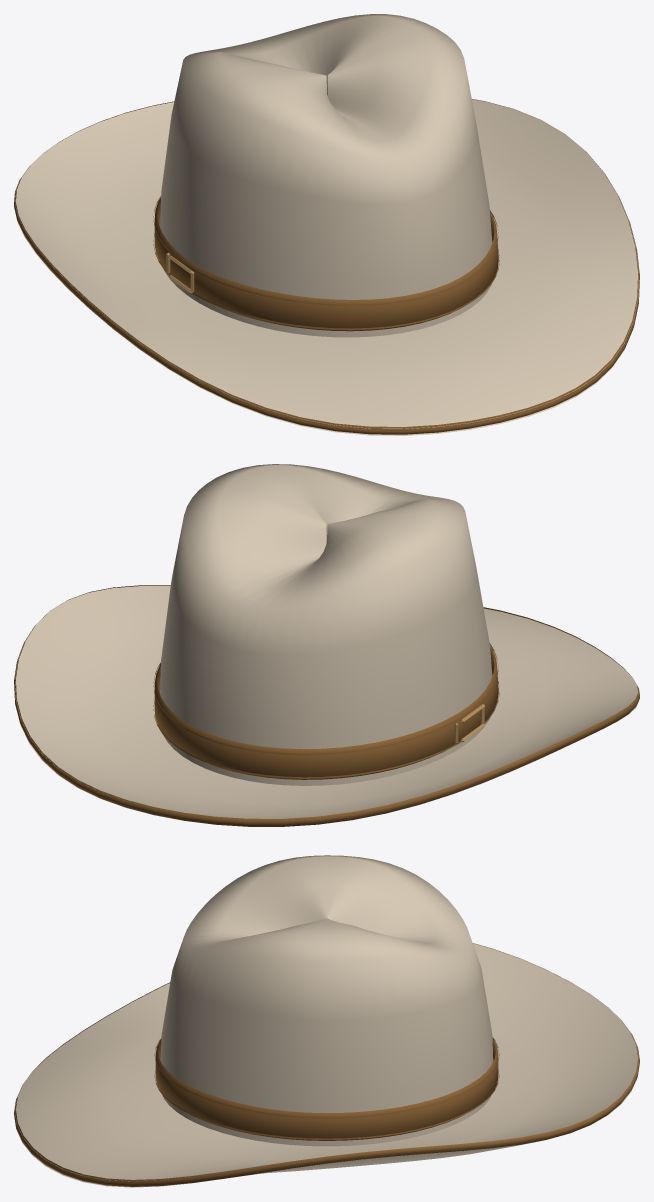
Rendered from yellow.glb.
3 views of the same model, one above another, from view 1: azimuth 30°, elevation 25°; view 2: azimuth 150°, elevation 25°; view 3: azimuth 270°, elevation 25° (orthographic). The views are drawn at different scales.
Visible parts, largest first — view 1: Felt upper brim, Felt crown, Fitted hatband, Bound brim edge, Felt under brim, Sewn band border.001, Sewn band border; view 2: Felt crown, Felt upper brim, Fitted hatband, Bound brim edge, Sewn band border.001, Sewn band border; view 3: Felt crown, Felt upper brim, Fitted hatband, Bound brim edge, Felt under brim, Sewn band border.001, Sewn band border.
Boxes of the visible parts, x1,y1,x2,y2 form: Felt upper brim: (15, 99, 638, 428); Felt crown: (160, 14, 492, 337); Fitted hatband: (154, 198, 498, 331); Bound brim edge: (14, 99, 639, 434); Felt under brim: (17, 222, 624, 435); Sewn band border.001: (153, 196, 498, 306); Sewn band border: (153, 233, 499, 330); Felt crown: (160, 464, 492, 785); Felt upper brim: (15, 586, 638, 818); Fitted hatband: (154, 645, 498, 779); Bound brim edge: (14, 585, 639, 826); Sewn band border.001: (153, 643, 498, 755); Sewn band border: (153, 681, 499, 778); Felt crown: (160, 855, 493, 1146); Felt upper brim: (15, 943, 638, 1181); Fitted hatband: (155, 1039, 498, 1140); Bound brim edge: (14, 943, 639, 1186); Felt under brim: (17, 1078, 637, 1187); Sewn band border.001: (154, 1037, 499, 1118); Sewn band border: (154, 1070, 499, 1139).
Size of the model in its own units: 0.3169 by 0.1433 by 0.367.
